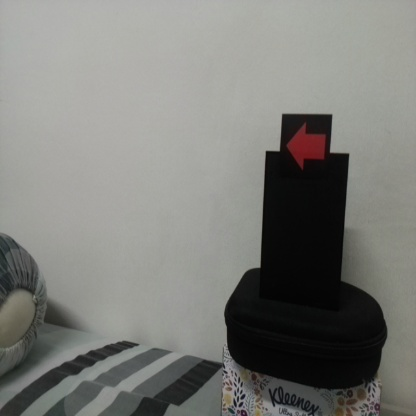id_4: (281, 114, 331, 178)
